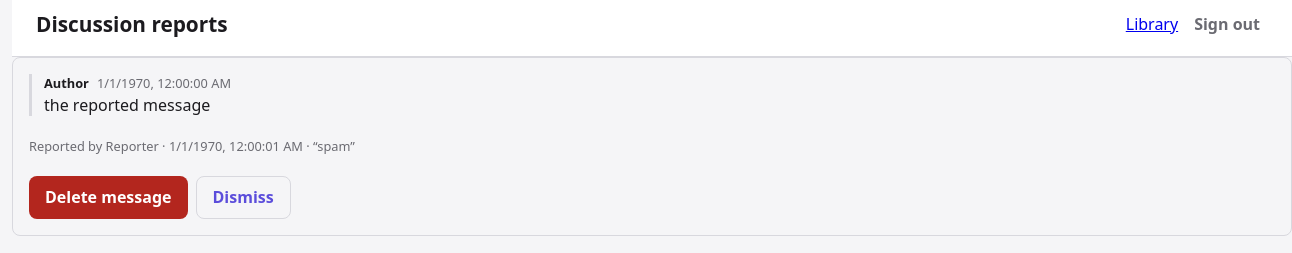
Test: AdminDiscussionsPage › deletes the reported message and removes the row
Click the button "Delete message": x=108, y=197 top-left (29, 176), bottom-right (188, 219)
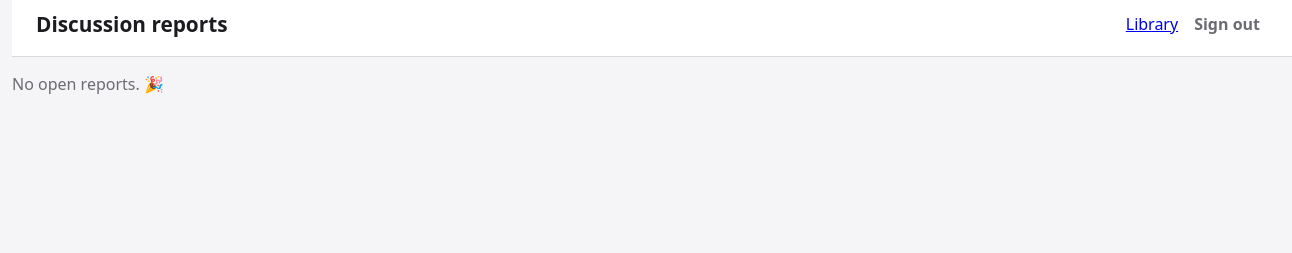
Expected: the text "the reported message" is gone
